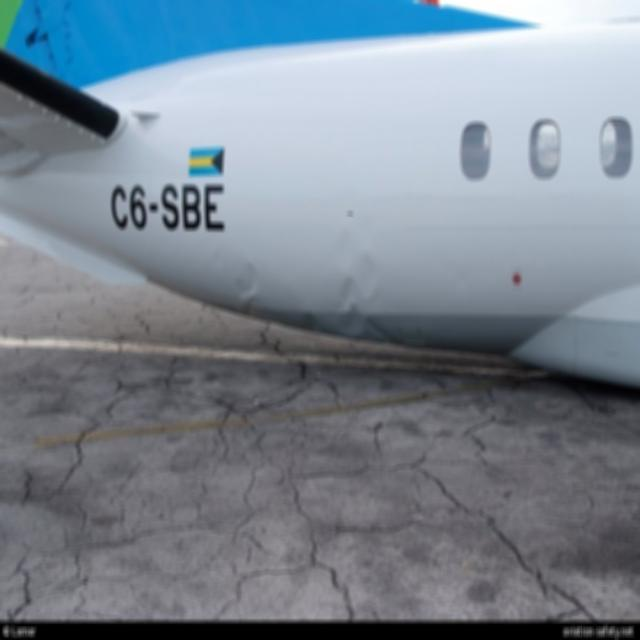dent: (334, 226, 389, 350), (229, 256, 272, 316), (299, 312, 324, 338)
